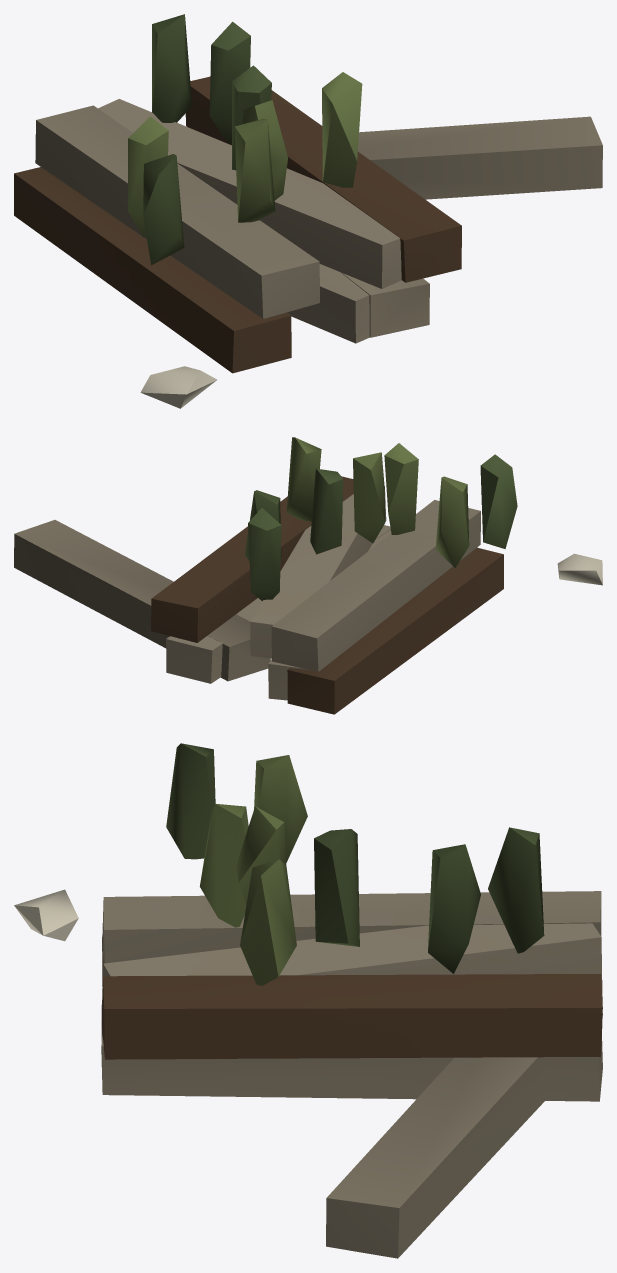
File: timber_ties_c_lod2.glb
3 renders of one model, top to bottom at view 1: azimuth 30°, elevation 25°; view 2: azimuth 150°, elevation 25°; view 3: azimuth 270°, elevation 25°, orthographic. The views are drawn at different scales.
Parts seen in each view (by area): view 1: Surface.001; view 2: Surface.001; view 3: Surface.001.
Part boxes in pixels (x1,y1,x2,y2): Surface.001: [14, 14, 602, 408]; Surface.001: [14, 437, 602, 714]; Surface.001: [14, 743, 602, 1258].
Size of the model in its own units: 4.72 by 1.52 by 3.5.
